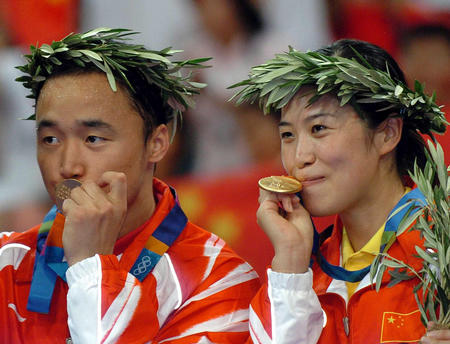face: (35, 76, 146, 218), (280, 85, 376, 213)
